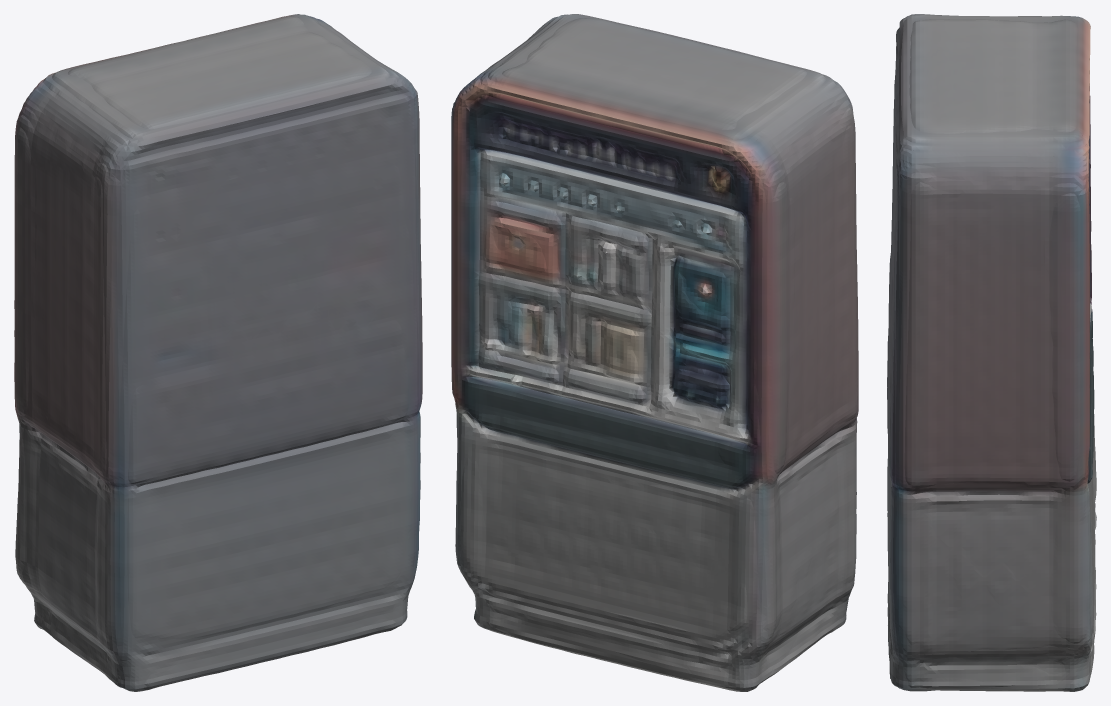
File: room-12-hero.glb
The picture shows the model from 3 angles, left to right: view 1: azimuth 30°, elevation 25°; view 2: azimuth 150°, elevation 25°; view 3: azimuth 270°, elevation 25°; orthographic projection.
Visible parts, largest first — view 1: world; view 2: world; view 3: world.
Boxes of the visible parts, box(x1,y1,x2,y2) form: world: box(14, 14, 422, 691); world: box(451, 14, 858, 691); world: box(887, 14, 1096, 691).
Size of the model in its own units: 0.6178 by 1.01 by 0.3435.
